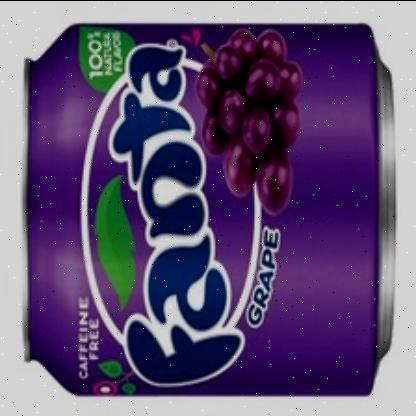Can: (21, 21, 394, 395)
